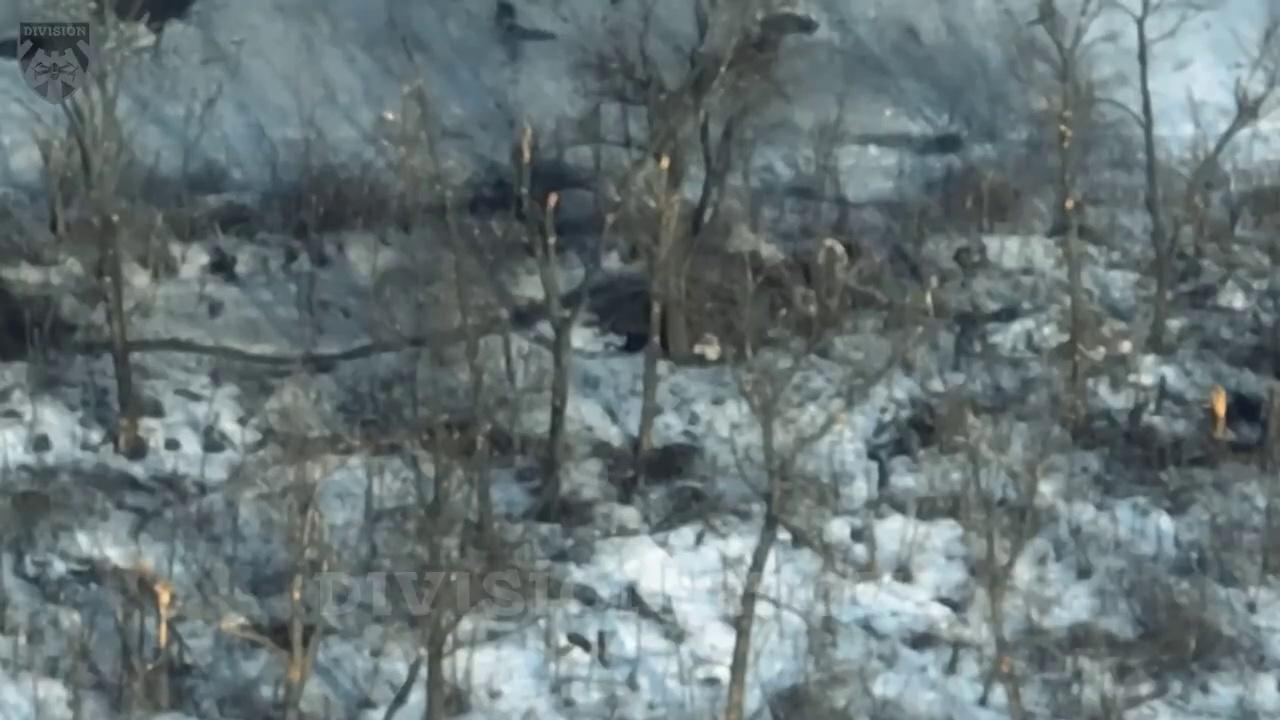person: (814, 238, 850, 284), (690, 328, 725, 366)
